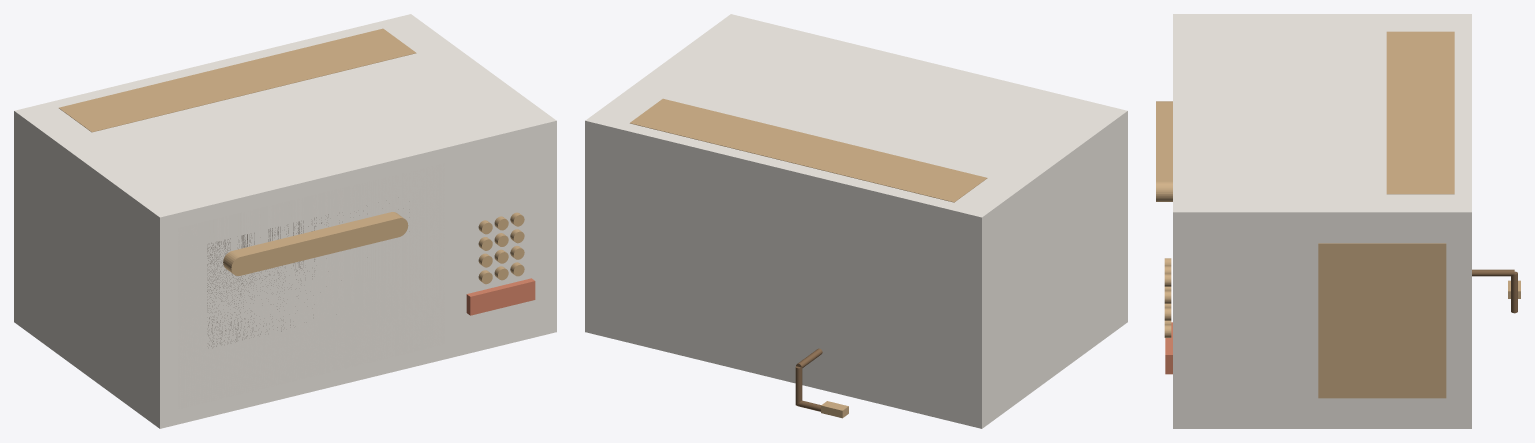
The picture shows the model from 3 angles, left to right: view 1: azimuth 30°, elevation 25°; view 2: azimuth 150°, elevation 25°; view 3: azimuth 270°, elevation 25°; orthographic projection. The views are drawn at different scales.
Parts seen in each view (by area): view 1: Microwave_Shell, Door_Frame, Top_Vent, Door_Handle, Door_Open_Button, Door_Window; view 2: Microwave_Shell, Top_Vent; view 3: Microwave_Shell, Side_Vent, Top_Vent, Door_Handle, Handle_Cap_Right.
Part boxes in pixels (left/top/right/bottom): Microwave_Shell: left=14, top=14, right=556, bottom=428; Door_Frame: left=178, top=163, right=444, bottom=408; Top_Vent: left=59, top=28, right=416, bottom=132; Door_Handle: left=232, top=212, right=399, bottom=275; Door_Open_Button: left=466, top=278, right=535, bottom=315; Door_Window: left=207, top=214, right=328, bottom=346; Microwave_Shell: left=585, top=14, right=1127, bottom=428; Top_Vent: left=630, top=98, right=987, bottom=202; Microwave_Shell: left=1173, top=14, right=1471, bottom=428; Side_Vent: left=1318, top=243, right=1446, bottom=398; Top_Vent: left=1386, top=31, right=1454, bottom=194; Door_Handle: left=1156, top=102, right=1172, bottom=181; Handle_Cap_Right: left=1156, top=181, right=1172, bottom=201.
Size of the model in its own units: 0.5505 by 0.2825 by 0.4275.
